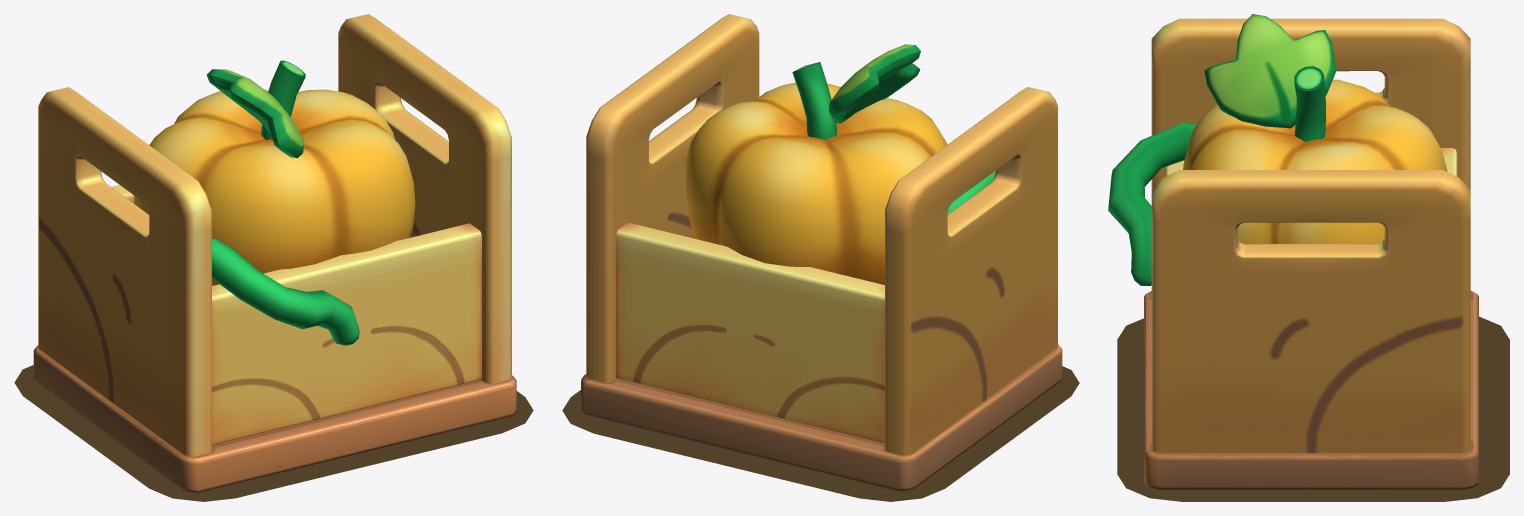
File: Pumpkin_L03.fbx
3 renders of one model, left to right at view 1: azimuth 30°, elevation 25°; view 2: azimuth 150°, elevation 25°; view 3: azimuth 270°, elevation 25°, orthographic. The views are drawn at different scales.
Visible parts, largest first — view 1: WT_PumpkinL3_body, PumpkinL3_body, WT_PumpkinL3_SDW; view 2: WT_PumpkinL3_body, PumpkinL3_body, WT_PumpkinL3_SDW; view 3: WT_PumpkinL3_body, PumpkinL3_body, WT_PumpkinL3_SDW.
Boxes of the visible parts, x1,y1,x2,y2 form: WT_PumpkinL3_body: [33, 14, 516, 492]; PumpkinL3_body: [133, 60, 415, 345]; WT_PumpkinL3_SDW: [14, 365, 533, 501]; WT_PumpkinL3_body: [581, 14, 1062, 491]; PumpkinL3_body: [684, 44, 995, 284]; WT_PumpkinL3_SDW: [562, 366, 1079, 501]; WT_PumpkinL3_body: [1144, 18, 1478, 489]; PumpkinL3_body: [1108, 14, 1447, 285]; WT_PumpkinL3_SDW: [1117, 316, 1509, 501].
Bounding box in the file's own units: 102 × 89.97 × 91.06.
Materials: 4 (3 with a texture image).
